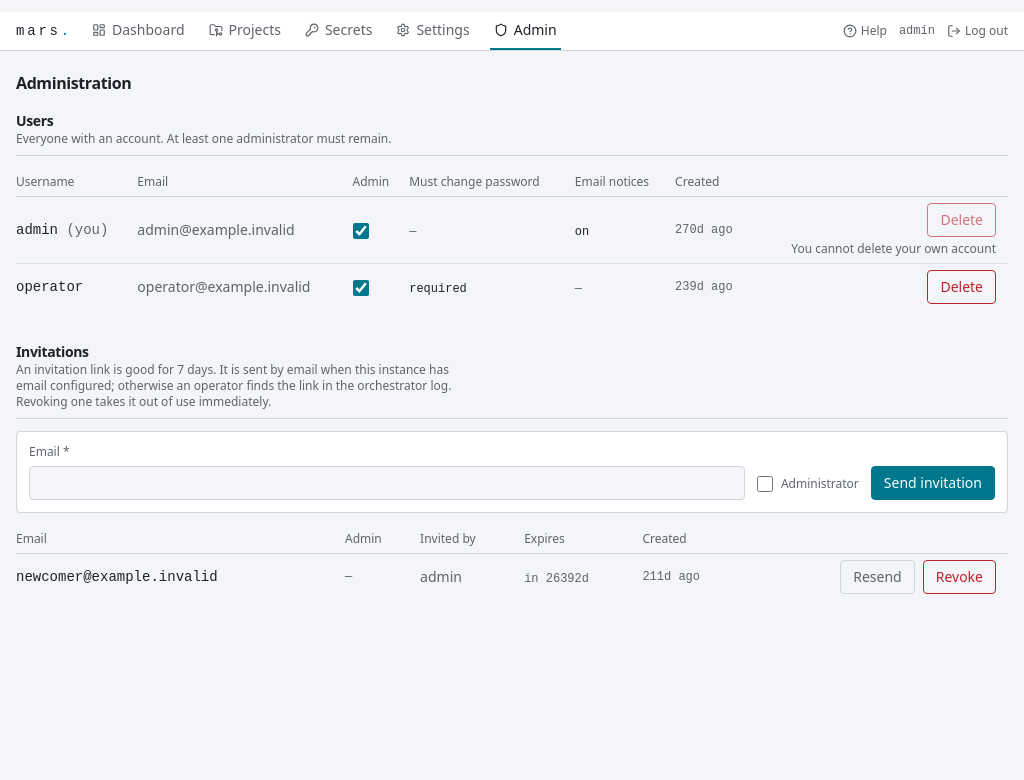
AdminPage › shows the refusal and leaves the checkbox alone when a toggle is rejected
Click the checkbox named "Administrator: operator" at (360, 288), box [352, 280, 368, 296]
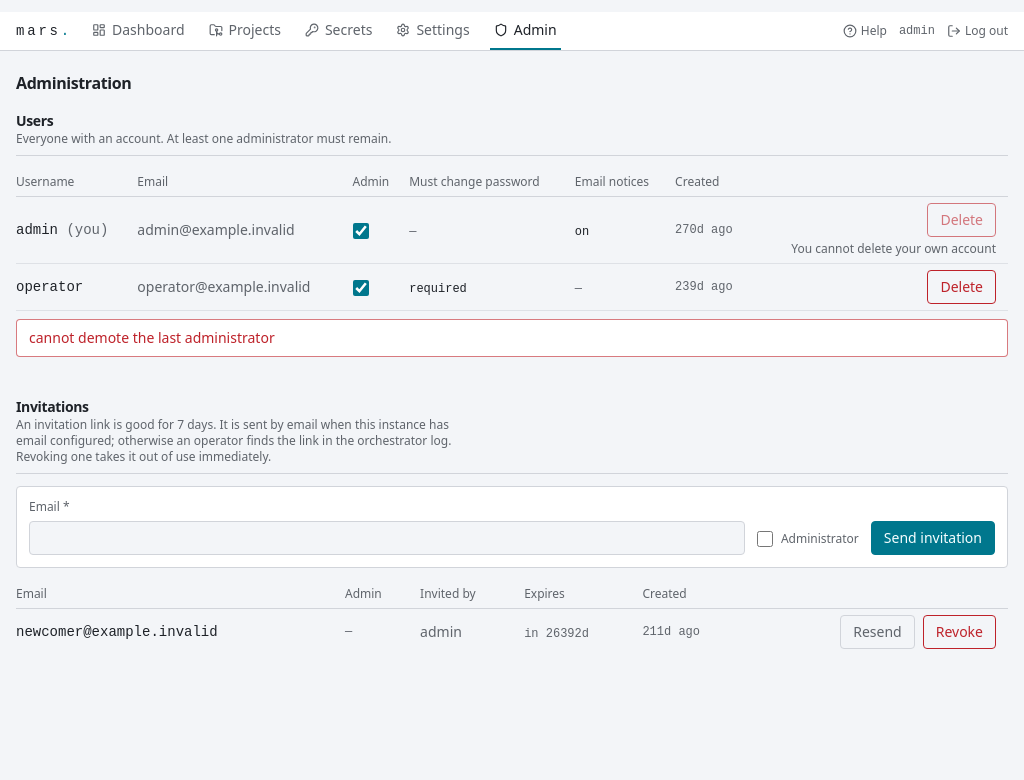
Expected: the text "cannot demote the last administrator" is shown, [29, 328, 275, 347]
